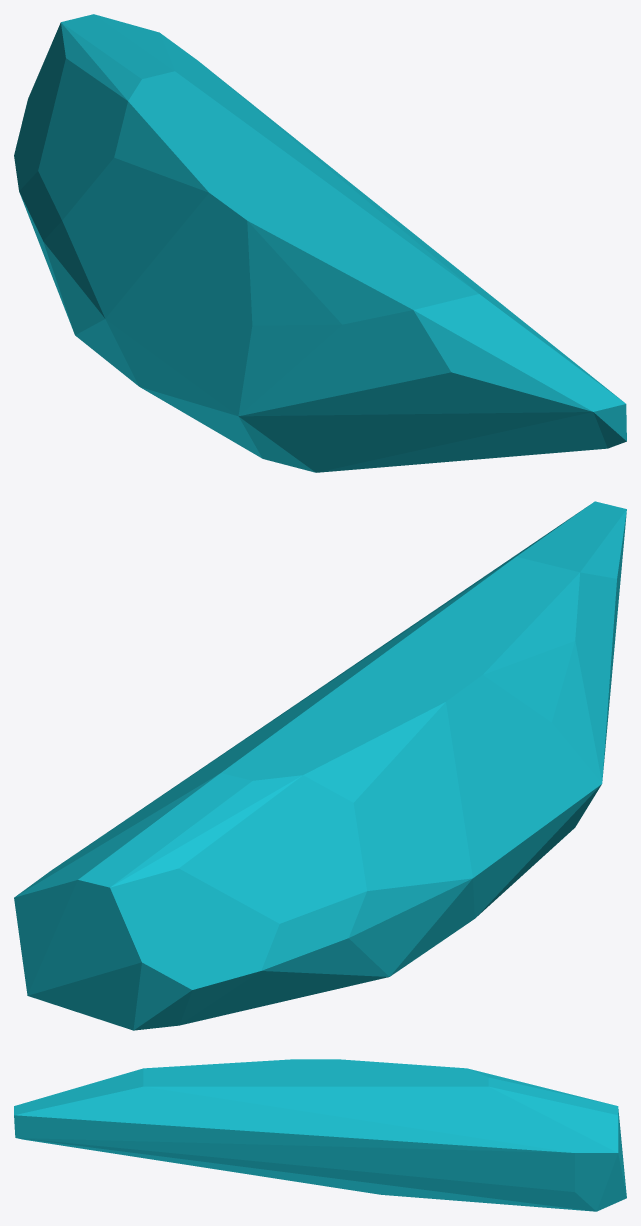
The model's file is mouth_cup039.obj.
3 views of the same model, one above another, from view 1: azimuth 30°, elevation 25°; view 2: azimuth 150°, elevation 25°; view 3: azimuth 270°, elevation 25° (orthographic). The views are drawn at different scales.
Parts seen in each view (by area): view 1: mouth_cup039; view 2: mouth_cup039; view 3: mouth_cup039.
Part boxes in pixels (bbox=[...]): mouth_cup039: bbox=[14, 14, 626, 472]; mouth_cup039: bbox=[14, 501, 626, 1030]; mouth_cup039: bbox=[14, 1059, 626, 1211].
Size of the model in its own units: 0.0479 by 0.0359 by 0.1702.
